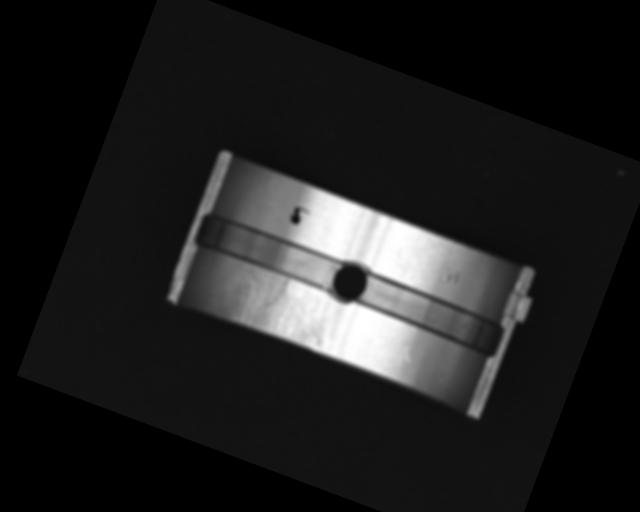blot: (287, 204, 310, 228)
bruise: (444, 268, 462, 285)
gap: (354, 272, 507, 357), (195, 211, 347, 296)
hole: (324, 255, 372, 309)
nick: (392, 323, 421, 363)
scratch: (226, 263, 338, 351)
